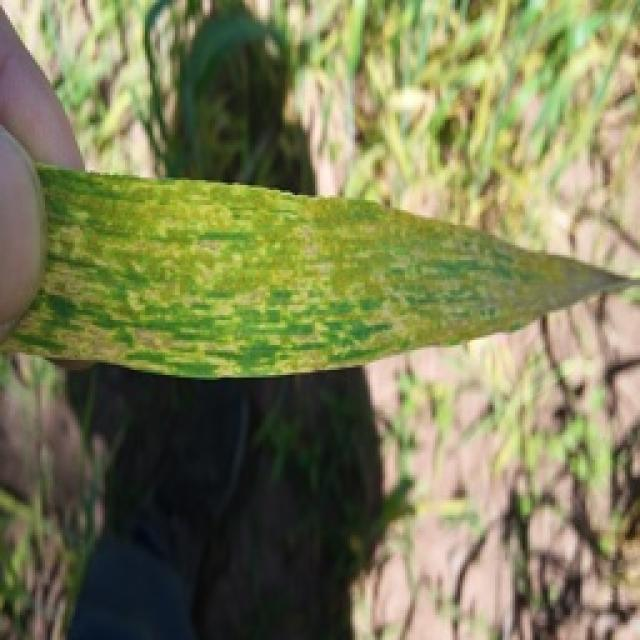Healthy Wheat: (0, 0, 638, 638)
Yellow Rust: (0, 158, 638, 380)
